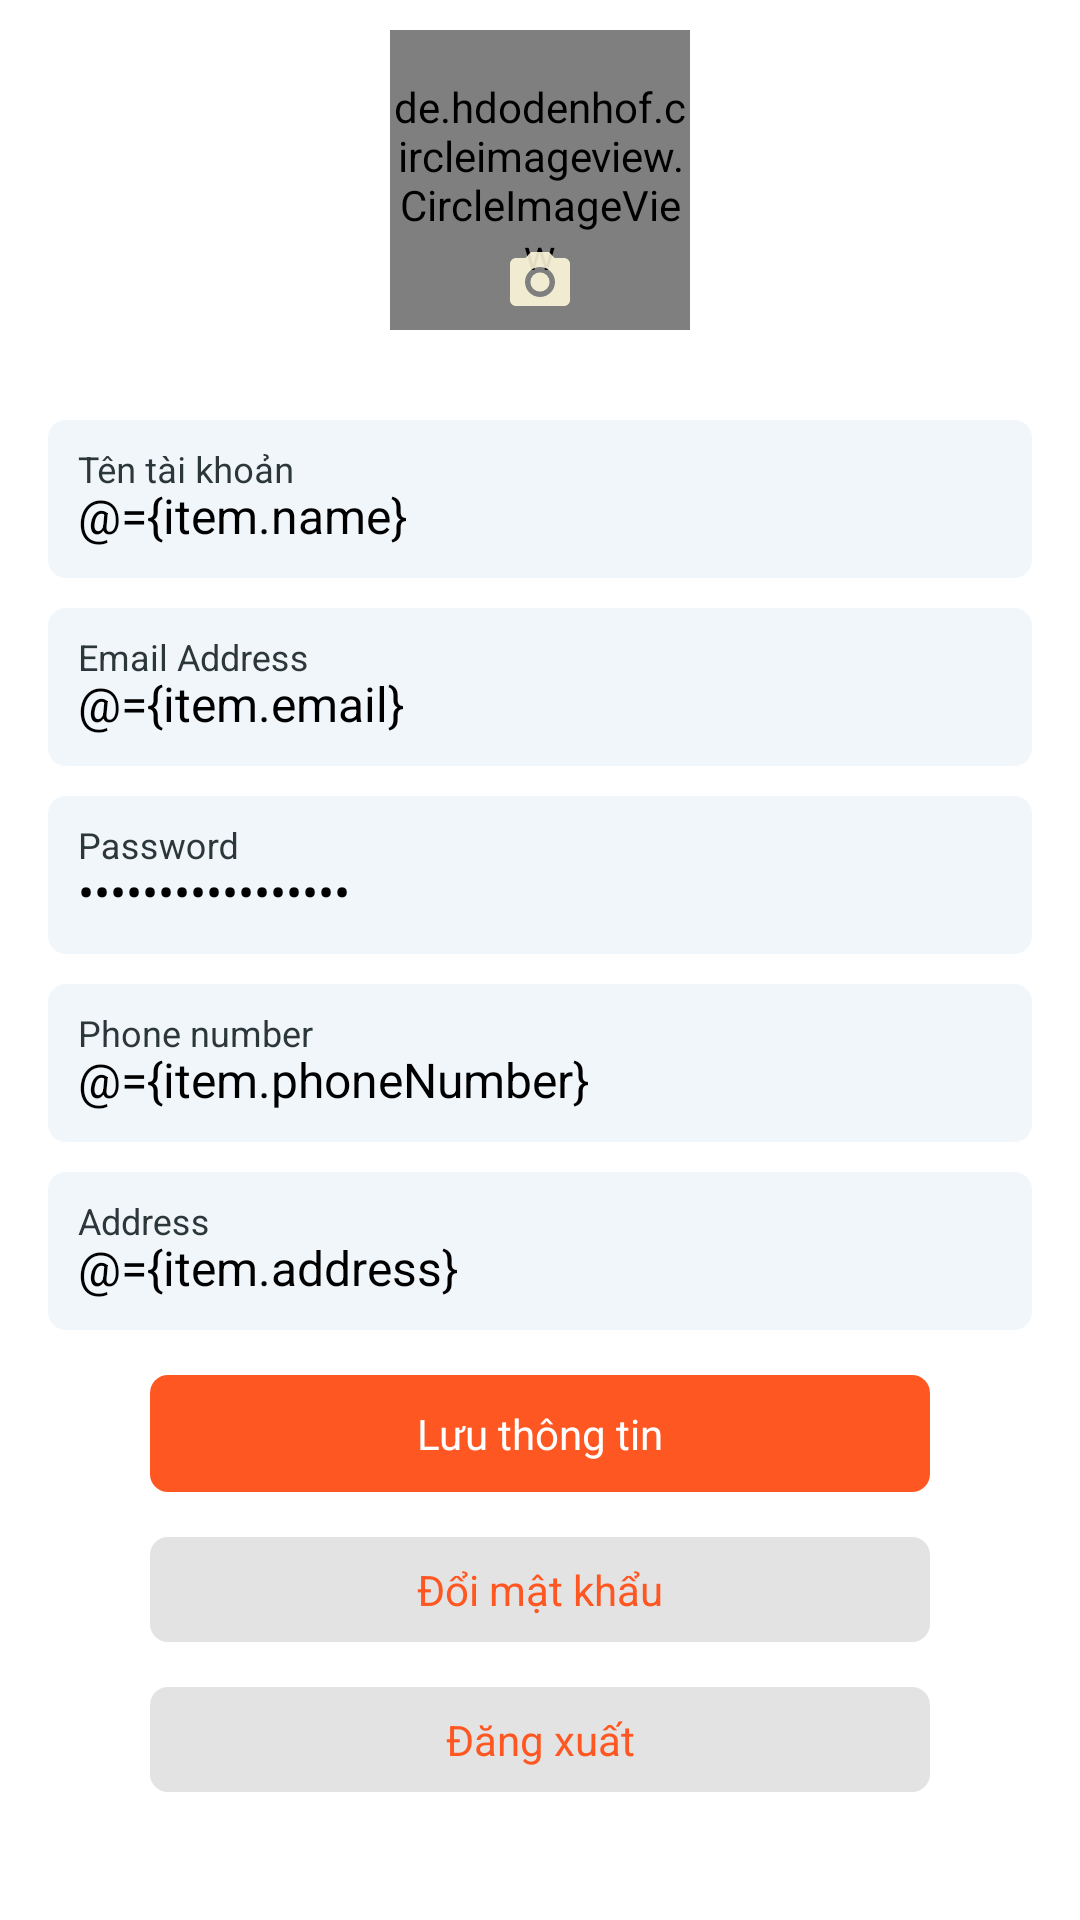

Named icons in this screenshot (1080*1920) and their bounding boxes, BBox(x1, y1, x2, y2):
photo camera: BBox(510, 247, 570, 306)
